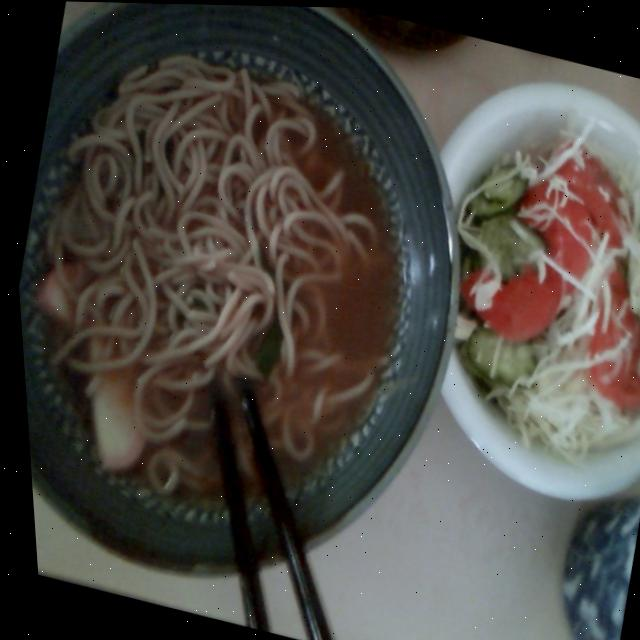蔬菜料理: (396, 101, 640, 481)
